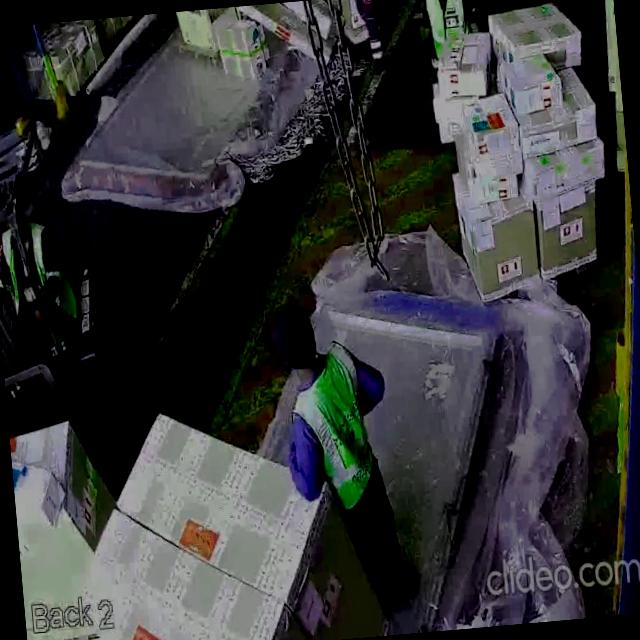Box: (129, 399, 332, 586), (84, 520, 246, 640), (455, 198, 542, 288), (210, 12, 282, 96), (489, 2, 581, 64), (534, 192, 600, 276), (432, 24, 488, 96), (458, 96, 522, 159), (530, 110, 602, 152), (532, 149, 606, 188), (506, 55, 556, 105)
